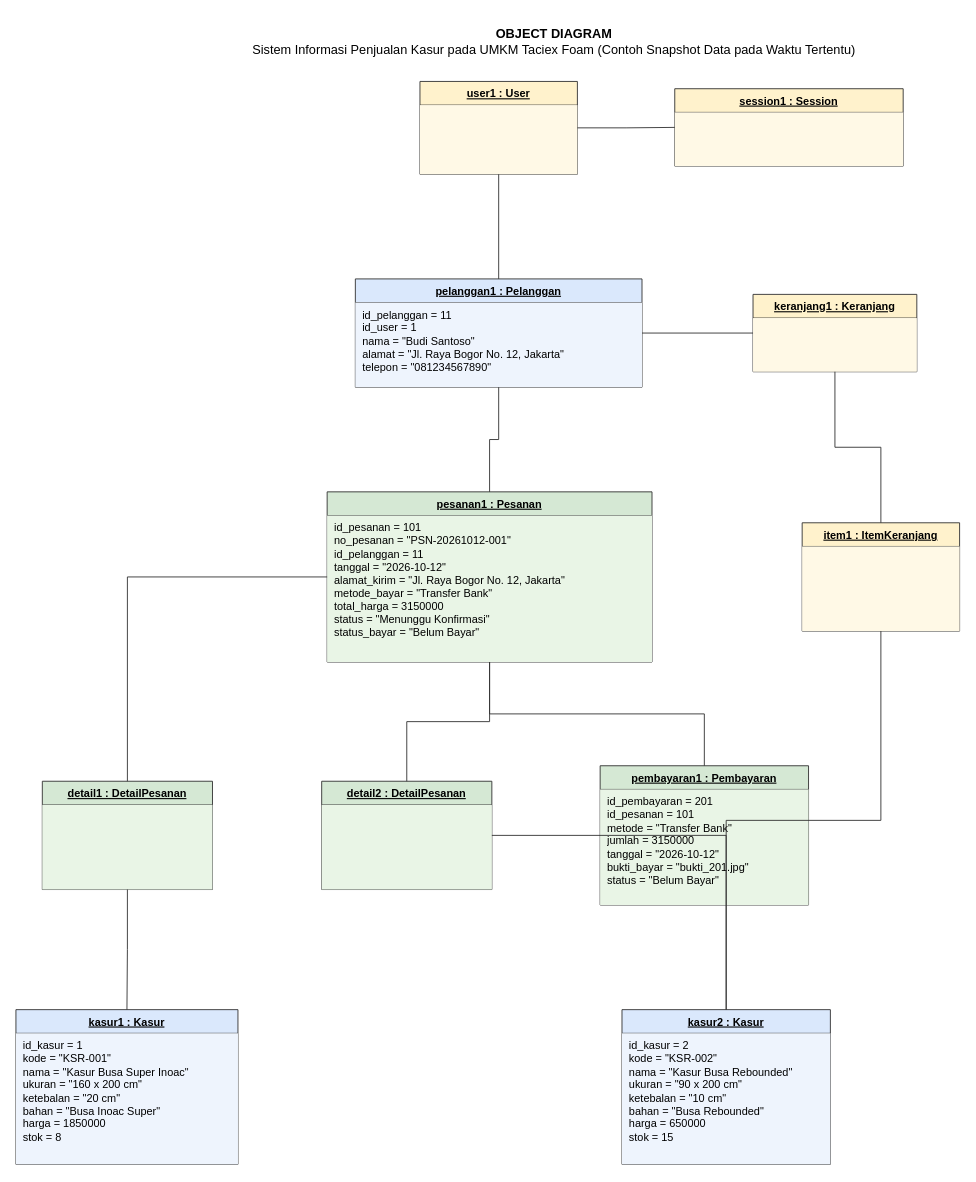
The diagram is 976 pixels wide and 1182 high, and some of its shapes have lost their labels. Here are the shapes that lost their labels. From the top down, the centre of each, then its label:
the point at 498,139: id_user = 1 username = "budi99" password = "********" role = "Pelanggan"
the point at 788,139: id_session = 501 id_user = 1 login_at = "2026-10-12 09:15:00"
the point at 834,344: id_keranjang = 31 id_pelanggan = 11 total = 650000
the point at 880,588: id_item = 41 id_keranjang = 31 id_kasur = 2 jumlah = 1 subtotal = 650000
the point at 127,846: id_detail = 1001 id_pesanan = 101 id_kasur = 1 jumlah = 1 subtotal = 1850000
the point at 406,846: id_detail = 1002 id_pesanan = 101 id_kasur = 2 jumlah = 2 subtotal = 1300000
